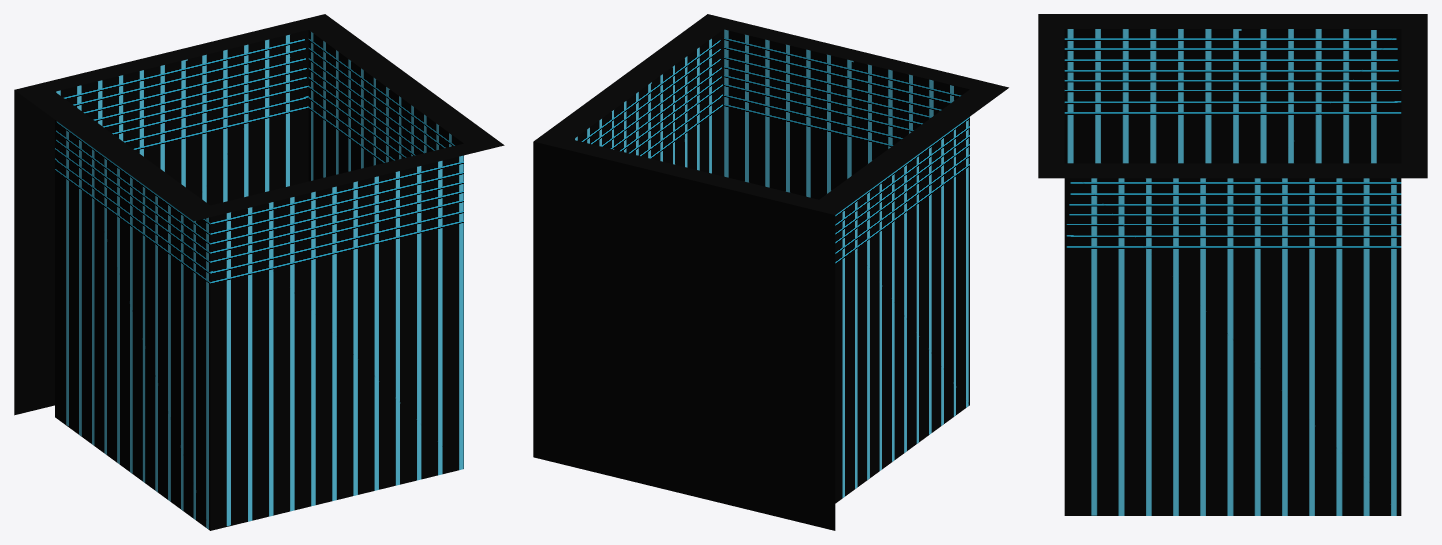
The model's file is mono_overFloor.obj.
The picture shows the model from 3 angles, left to right: view 1: azimuth 30°, elevation 25°; view 2: azimuth 150°, elevation 25°; view 3: azimuth 270°, elevation 25°; orthographic projection. The views are drawn at different scales.
Visible parts, largest first — view 1: mono_floor; view 2: mono_floor; view 3: mono_floor.
Boxes of the visible parts, box(x1,y1,x2,y2) form: mono_floor: box(14, 14, 504, 530); mono_floor: box(533, 14, 1008, 530); mono_floor: box(1038, 14, 1427, 515).
Bounding box in the file's own units: 2 × 2 × 2.
Materials: 1 (1 with a texture image).
